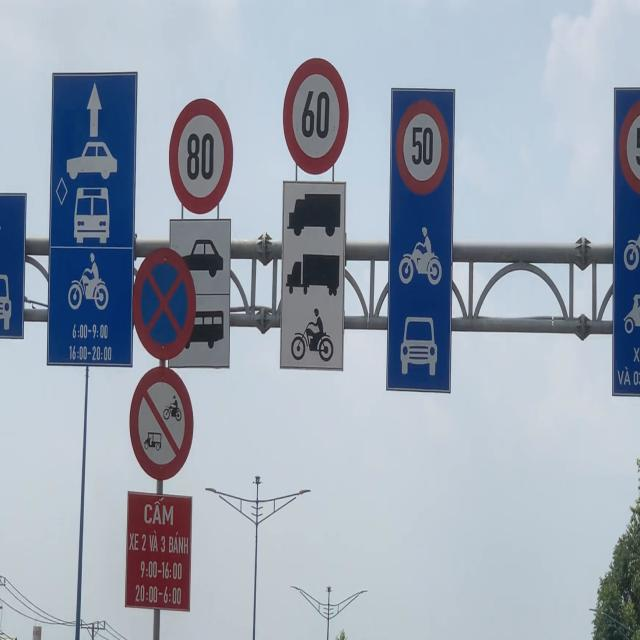Cam dung va do: (132, 248, 196, 360)
Toc do toi da: (282, 56, 349, 176), (168, 96, 234, 215), (396, 99, 450, 196), (618, 99, 640, 197)
